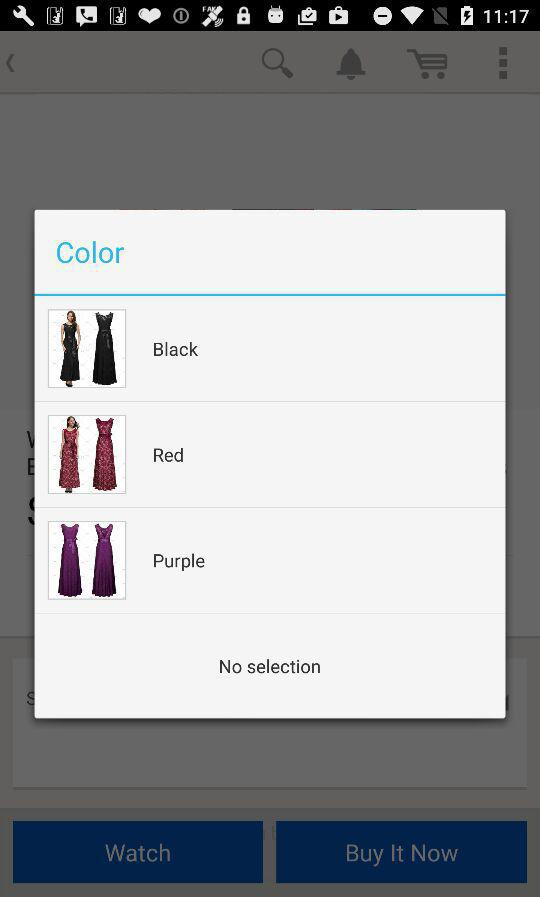Icon: (406, 50, 447, 82), (262, 48, 295, 80), (335, 48, 366, 82), (497, 47, 508, 81), (7, 54, 16, 74)
Image: (49, 521, 127, 601), (49, 415, 127, 495), (49, 309, 127, 388)
Modal: (34, 210, 507, 720)
Text: (220, 658, 321, 675), (57, 241, 126, 265), (154, 553, 206, 572), (154, 342, 200, 358), (154, 448, 185, 464)
TextButton: (276, 820, 528, 884), (13, 820, 265, 884)
UpperTaskBar: (1, 1, 540, 33)
